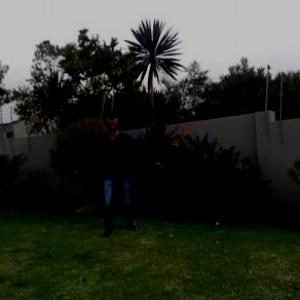land: (74, 105, 178, 236)
